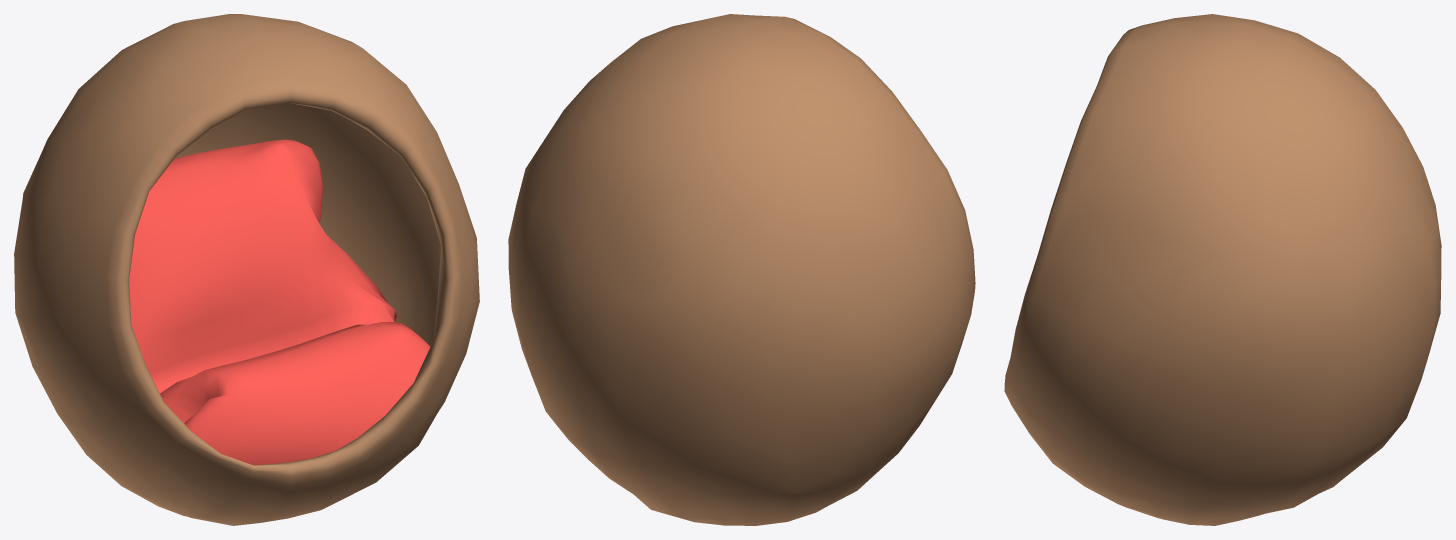
The model's file is Egg_Chair.glb.
3 views of the same model, side by side, from view 1: azimuth 30°, elevation 25°; view 2: azimuth 150°, elevation 25°; view 3: azimuth 270°, elevation 25° (orthographic).
Visible parts, largest first — view 1: Cube.001; view 2: Cube.001; view 3: Cube.001.
Part boxes in pixels (left/top/right/bottom): Cube.001: left=14, top=14, right=479, bottom=525; Cube.001: left=508, top=14, right=975, bottom=525; Cube.001: left=1004, top=14, right=1441, bottom=525.
Size of the model in its own units: 4.54 by 5.05 by 4.27.
1 material, 1 textured.
